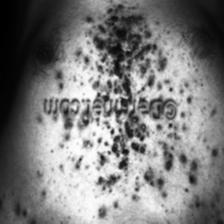Non-Cancerous Skin Condition: (48, 121, 202, 217), (80, 0, 190, 96)
